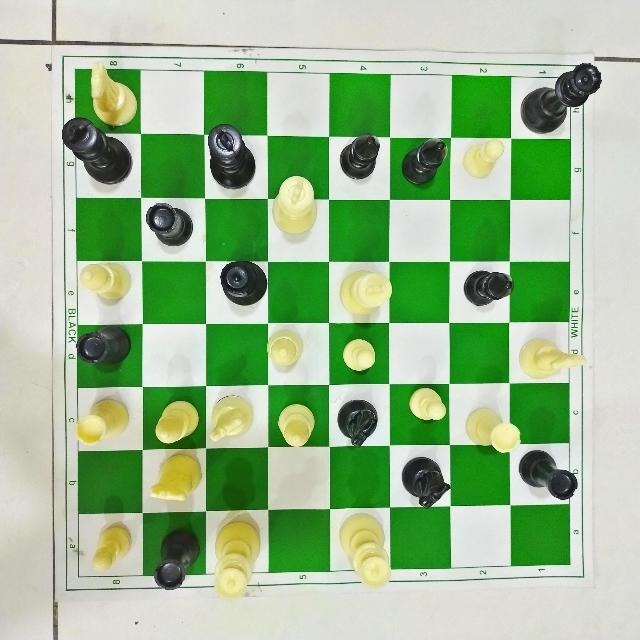black-bishop: (460, 265, 517, 313), (400, 136, 449, 191), (339, 131, 382, 180)
black-king: (59, 114, 133, 184), (201, 122, 260, 190)
black-knight: (399, 452, 451, 513), (335, 398, 380, 452)
black-queen: (518, 54, 601, 139), (218, 256, 268, 307)
black-rook: (146, 525, 204, 591), (519, 448, 580, 502), (73, 319, 134, 369), (143, 200, 195, 248)
white-bishop: (77, 260, 134, 304), (149, 399, 199, 447), (274, 399, 318, 451), (265, 323, 305, 366)
white-king: (337, 266, 392, 322), (271, 174, 321, 234)
white-knight: (515, 330, 587, 388), (81, 58, 138, 128), (149, 450, 203, 505), (207, 393, 255, 443)
white-pawn: (86, 521, 133, 572), (460, 137, 506, 184), (402, 386, 447, 426), (338, 335, 376, 373)
white-queen: (337, 512, 395, 590), (208, 519, 263, 600)
white-rook: (72, 396, 132, 446), (464, 405, 521, 457)
